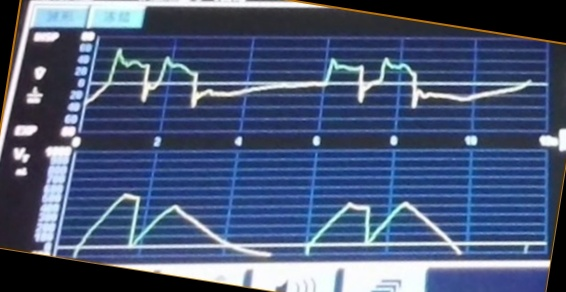Double_Triggering Flow: (99, 45, 503, 127)
Double_Triggering Volume: (78, 177, 501, 259)
